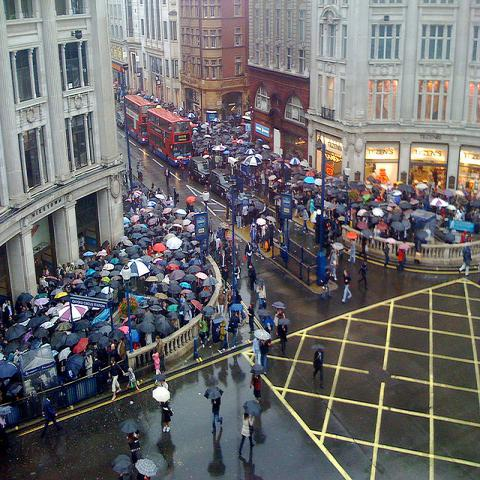bus: (147, 105, 192, 168), (124, 95, 156, 146)
car: (207, 169, 233, 198), (188, 156, 213, 184), (242, 196, 266, 212), (117, 117, 123, 124)
